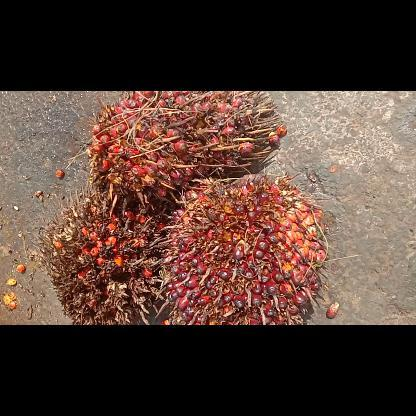TBS masak: (156, 174, 328, 324), (88, 91, 280, 207)
Terlalu masak: (33, 186, 163, 324)
